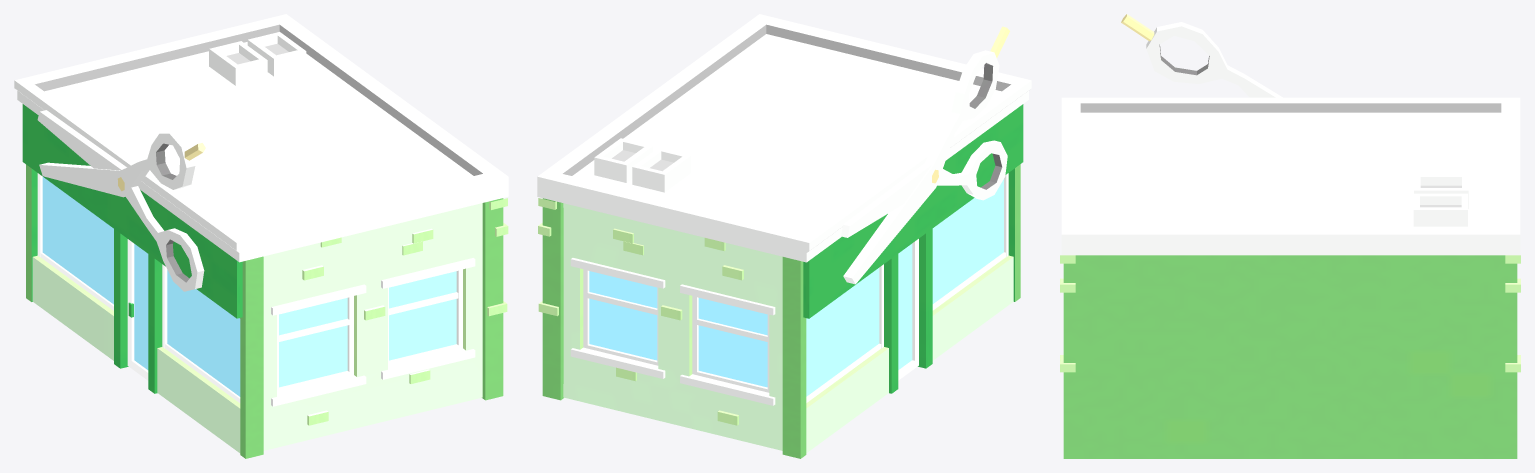
The model's file is tile_for_home_1x1.006 (7) hairshop.glb.
3 renders of one model, left to right at view 1: azimuth 30°, elevation 25°; view 2: azimuth 150°, elevation 25°; view 3: azimuth 270°, elevation 25°, orthographic. The views are drawn at different scales.
Visible parts, largest first — view 1: services.009; view 2: services.009; view 3: services.009.
Part boxes in pixels (x1,y1,x2,y2): services.009: [14, 14, 508, 458]; services.009: [537, 14, 1031, 458]; services.009: [1060, 14, 1520, 458].
Size of the model in its own units: 4.98 by 5.02 by 6.83.
1 material, 1 textured.
